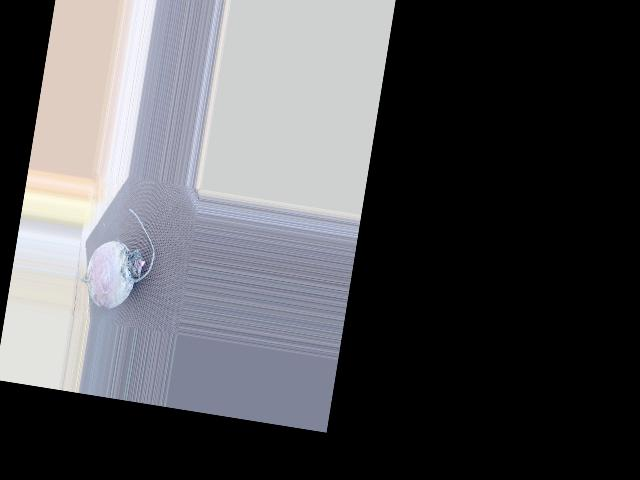beet: (70, 202, 161, 315)
